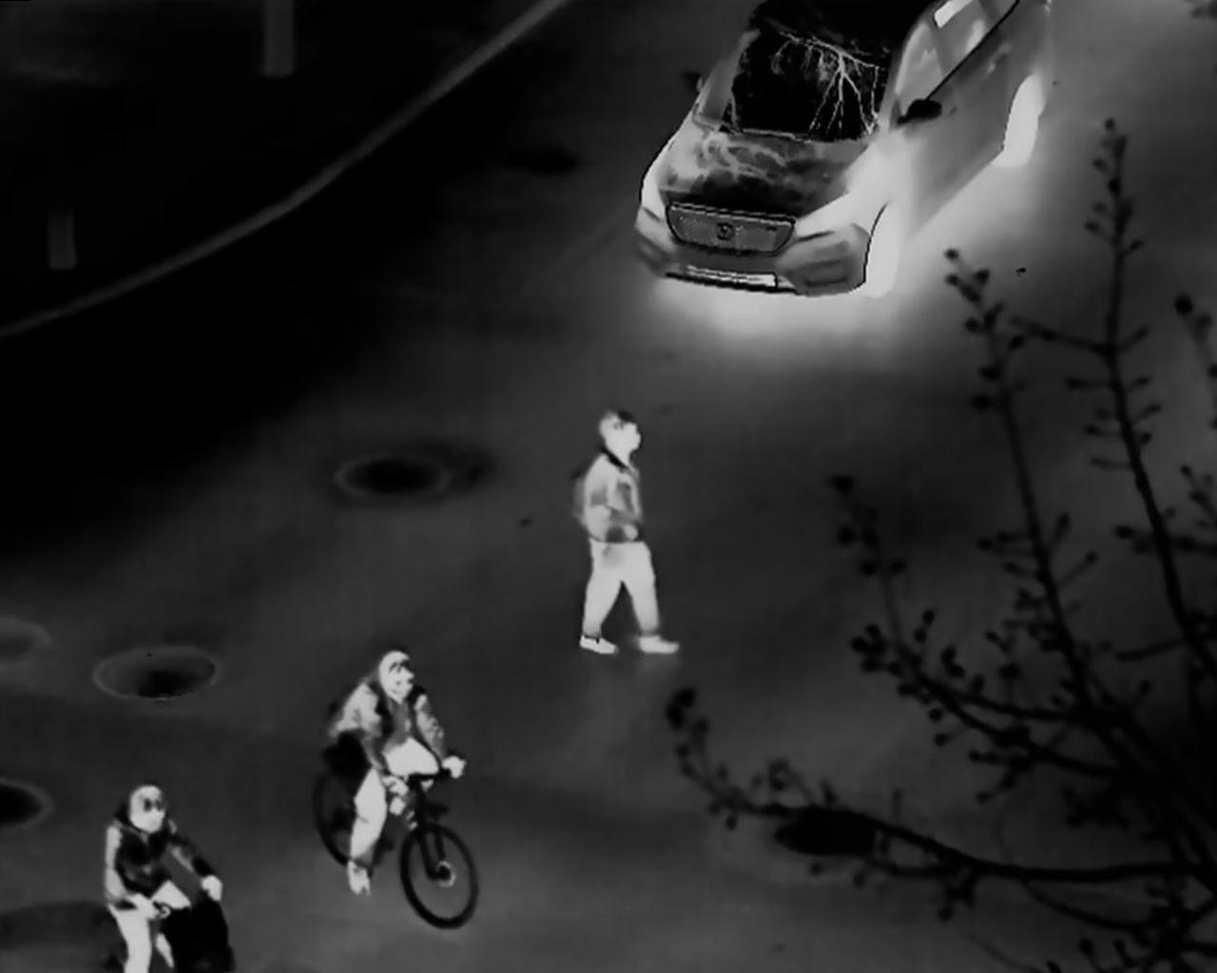person: (326, 647, 466, 897), (569, 410, 680, 657), (103, 783, 222, 973)
